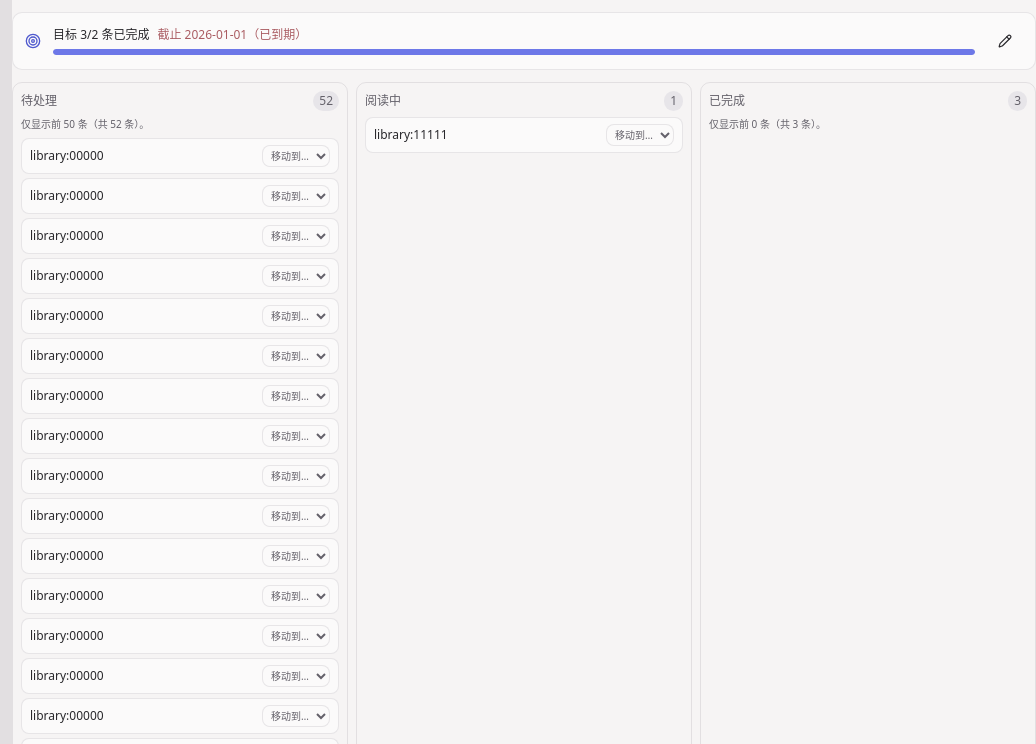
Test case: F085 工作区看板 / F086 阅读目标 › F086: 目标卡进度与编辑（PUT goal）；删除目标→卡消失
This screenshot has width=1036, height=744.
Expected: the element with test id "goal-card" shows "目标 3/2 条已完成", [12, 12, 1035, 70]
Expected: the element with test id "goal-card" shows "已到期", [247, 26, 307, 43]
Click the button named "编辑目标": (1005,41) [987, 25, 1023, 57]
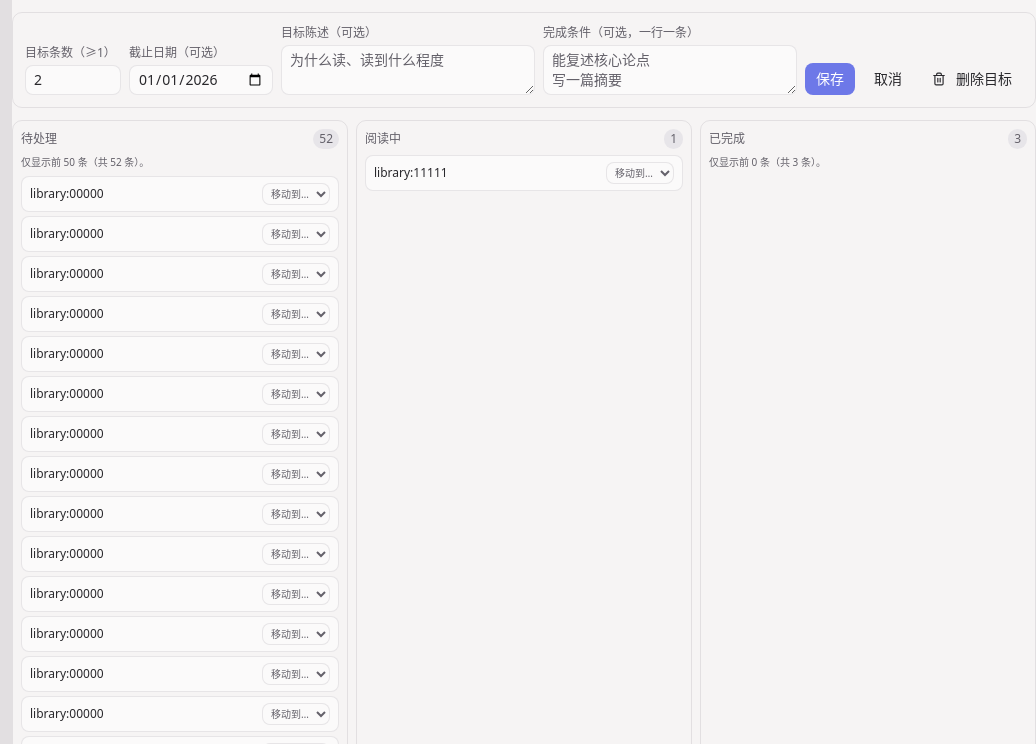
Replace the text in the number field labelled "目标条数" with "5": (73,80) [25, 65, 121, 95]
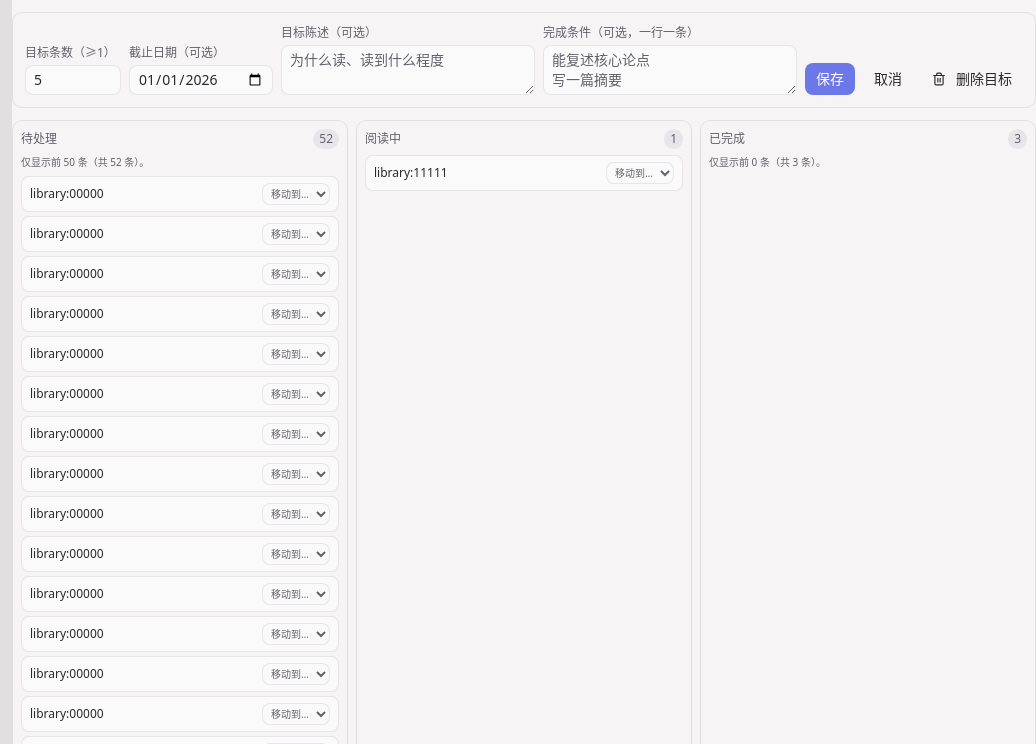
Click the button "保存": (830,79) [805, 63, 855, 95]
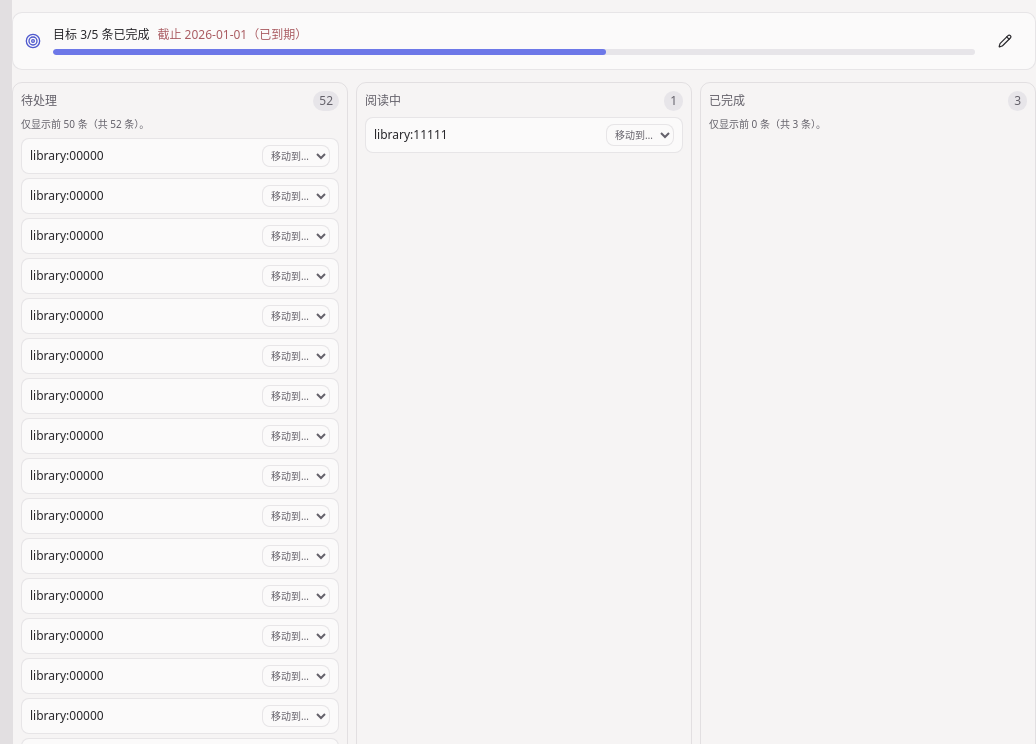
Expected: the element with test id "goal-card" shows "目标 3/5 条已完成", [12, 12, 1035, 70]
Click the button named "编辑目标": (1005,41) [987, 25, 1023, 57]
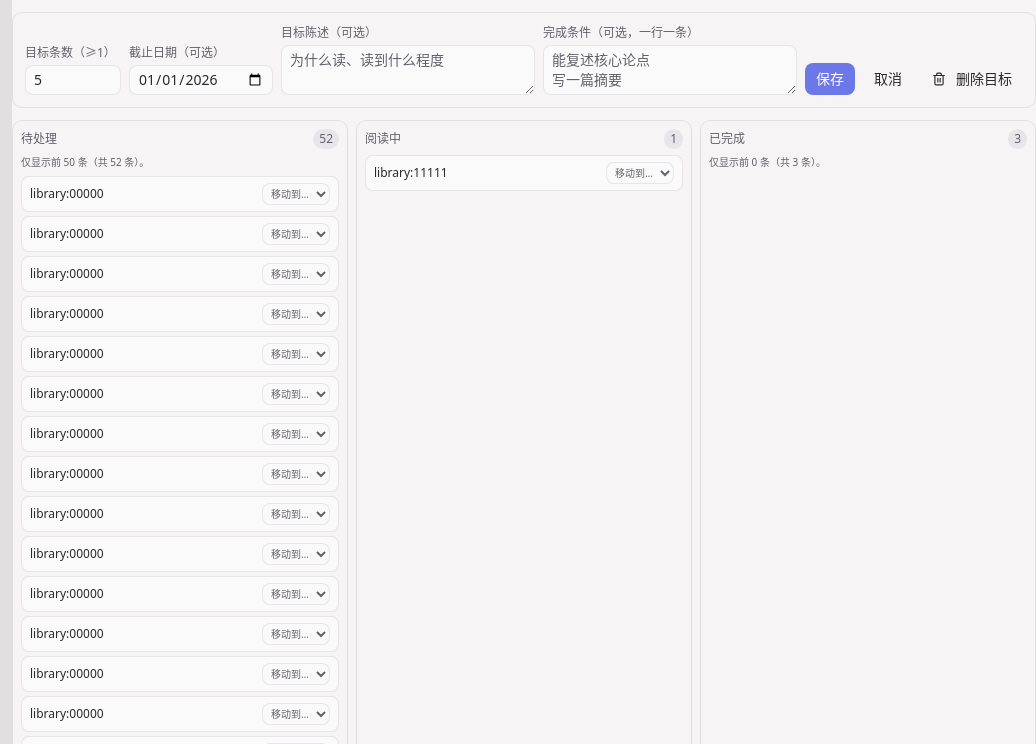
Click the button "删除目标": (972,79) [921, 63, 1023, 95]
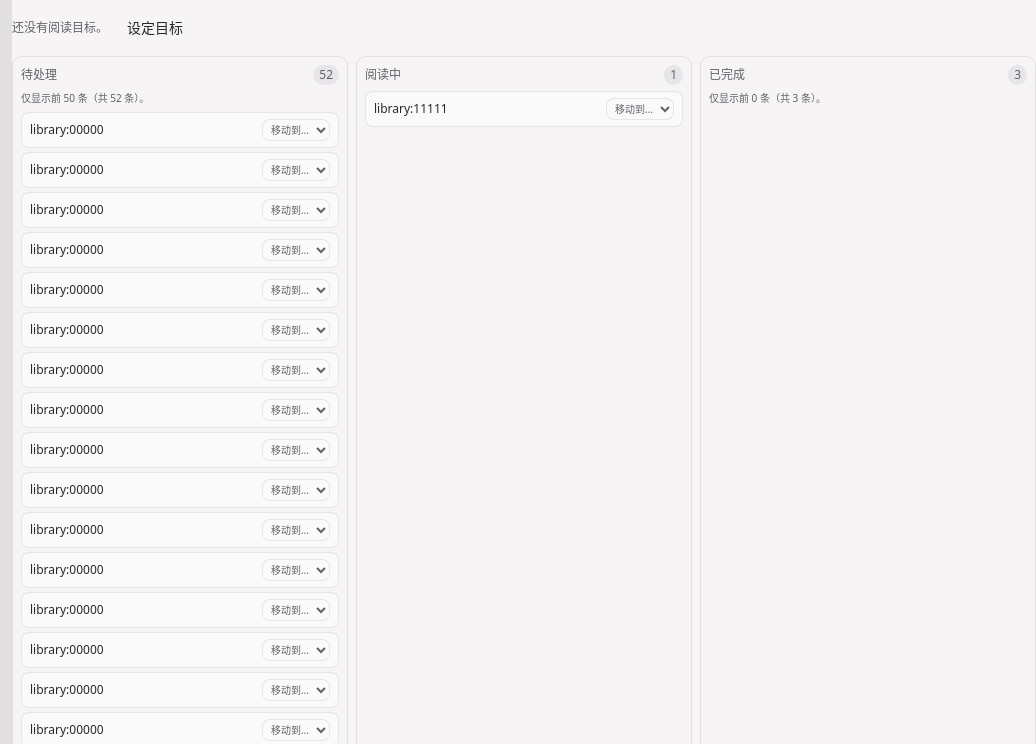
Expected: the text "还没有阅读目标。" is shown, [12, 20, 108, 36]
